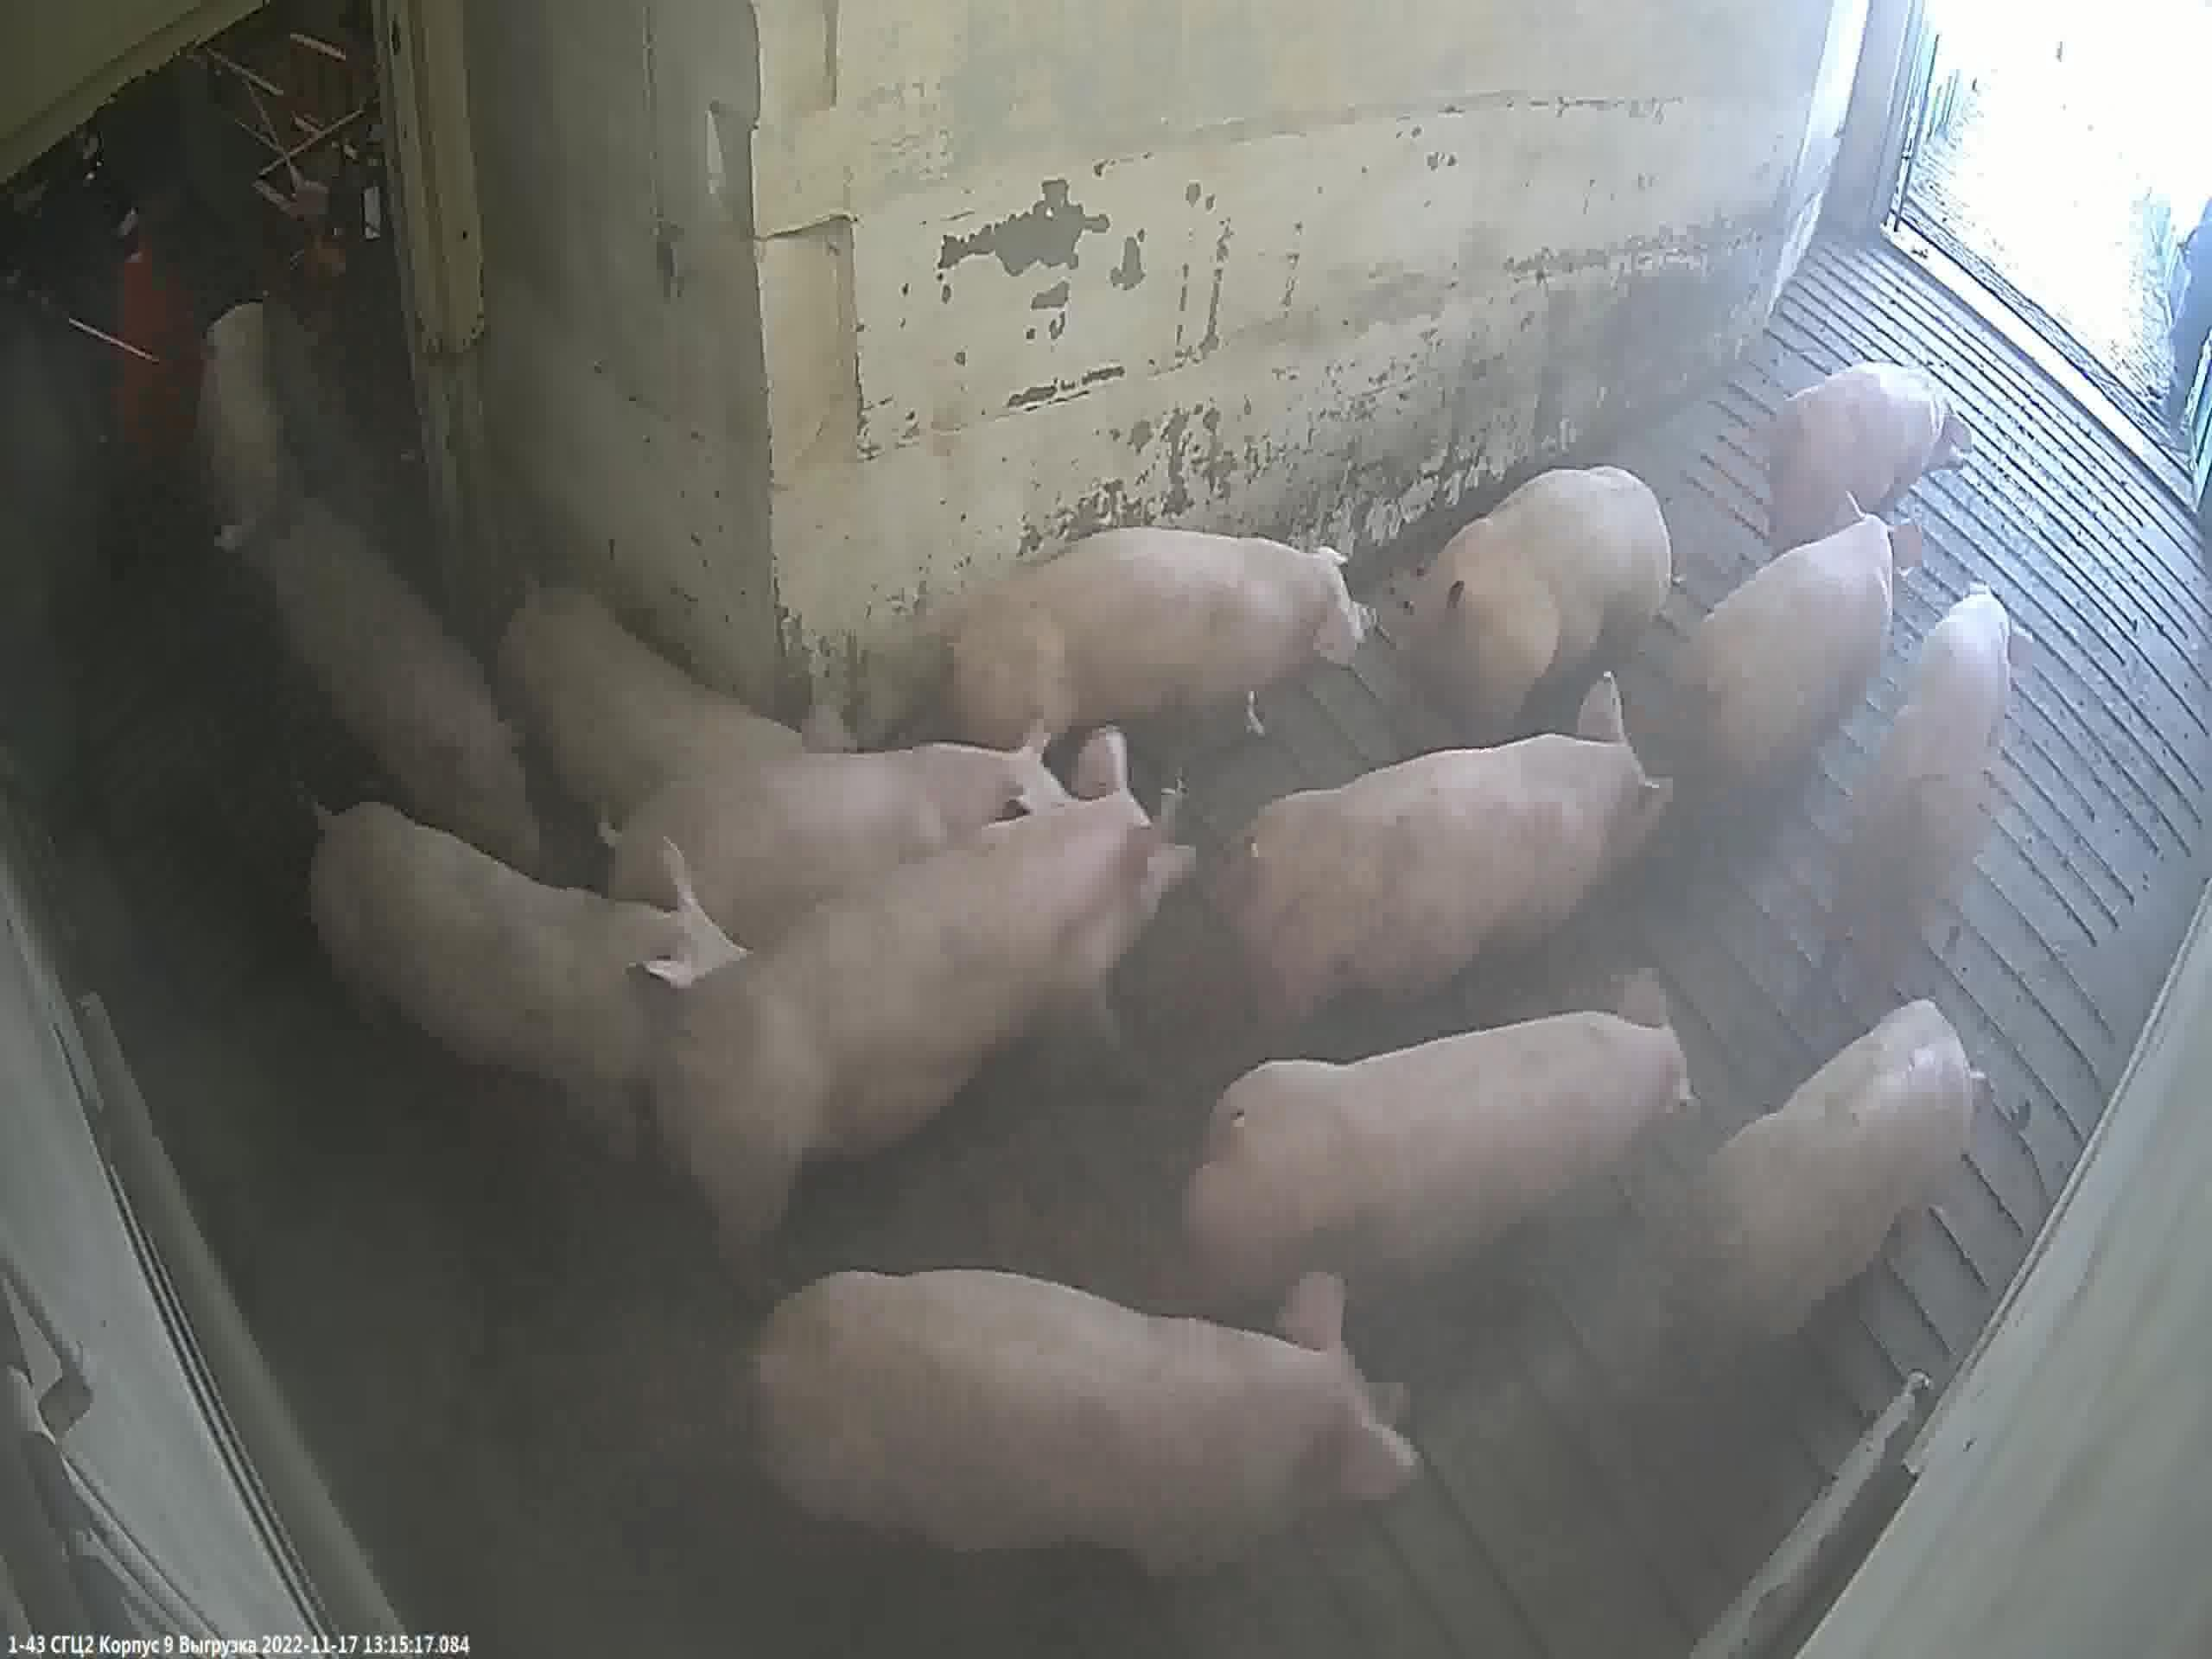Pigs: (679, 734, 1197, 1261), (752, 1269, 1423, 1587), (1188, 968, 1689, 1312), (309, 802, 752, 1178), (1243, 672, 1674, 1054), (1672, 1006, 1986, 1376), (608, 719, 1078, 950), (955, 531, 1382, 750), (279, 525, 539, 866), (518, 594, 855, 829), (1694, 486, 1923, 802), (1414, 466, 1670, 732), (1839, 595, 2024, 963), (1782, 370, 1972, 541), (204, 304, 308, 570)
